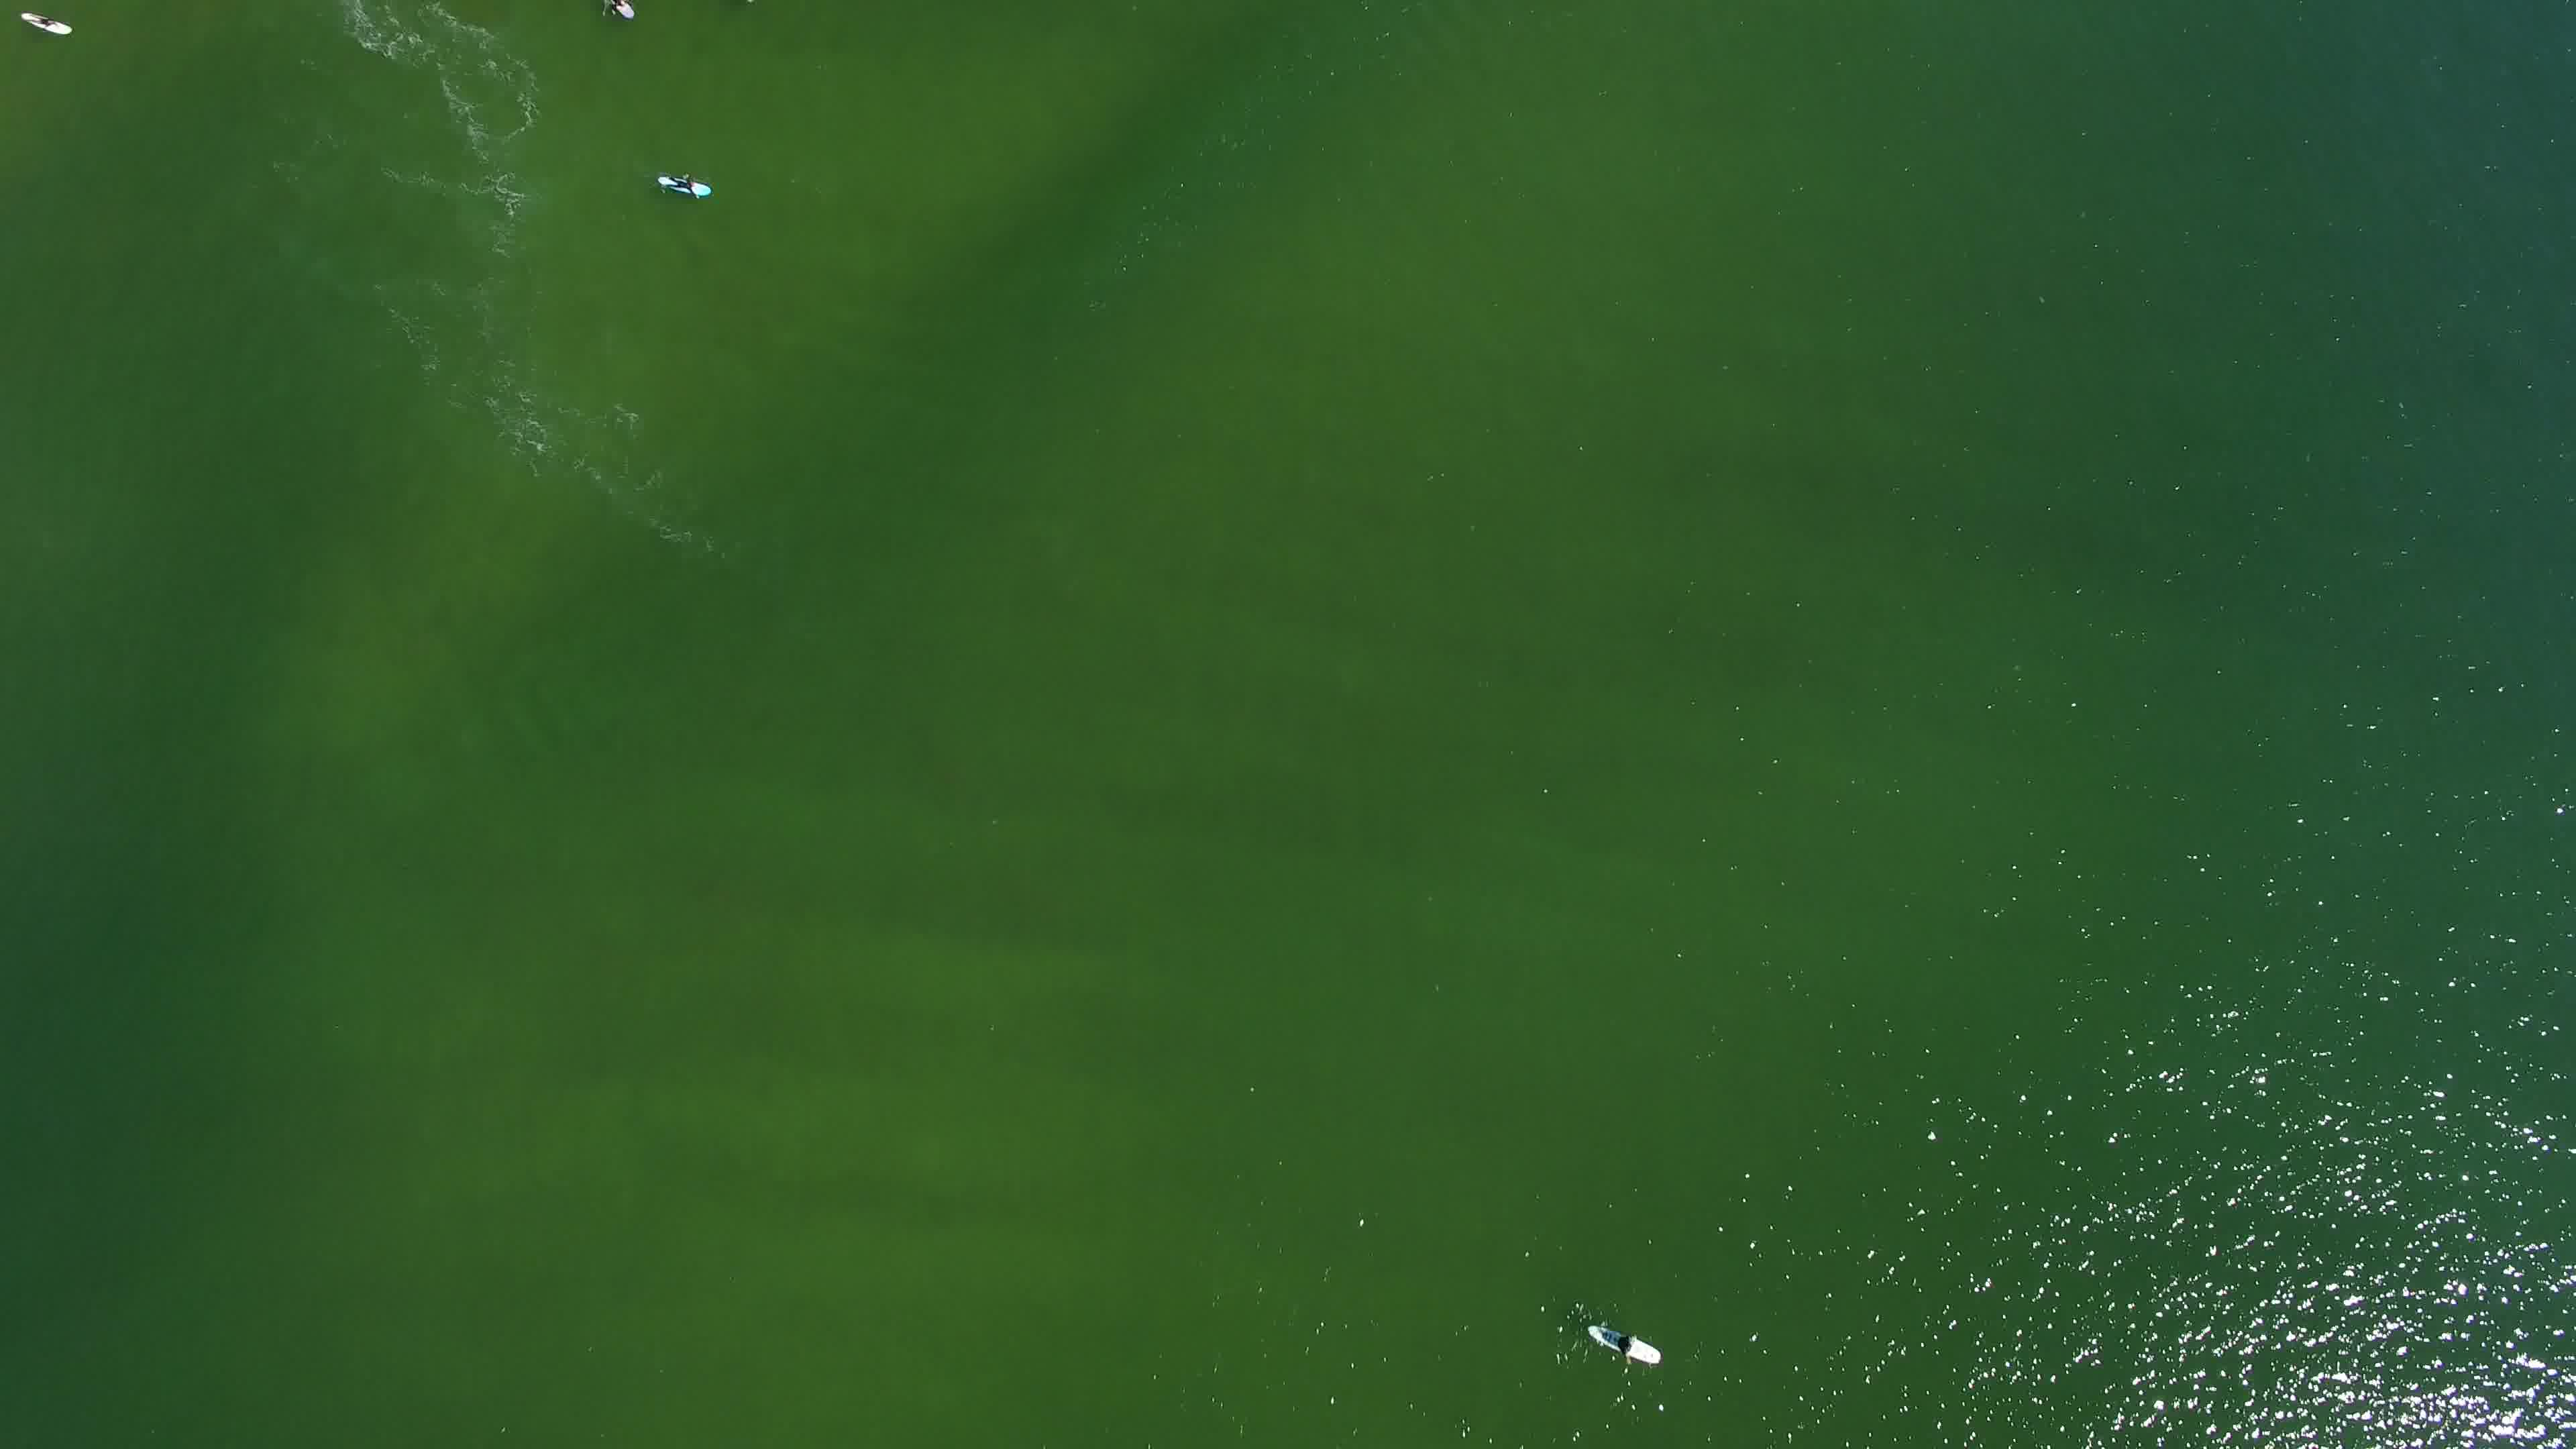surfer: (1571, 1304, 1674, 1378), (14, 5, 83, 41), (655, 170, 720, 207), (609, 0, 648, 25)
